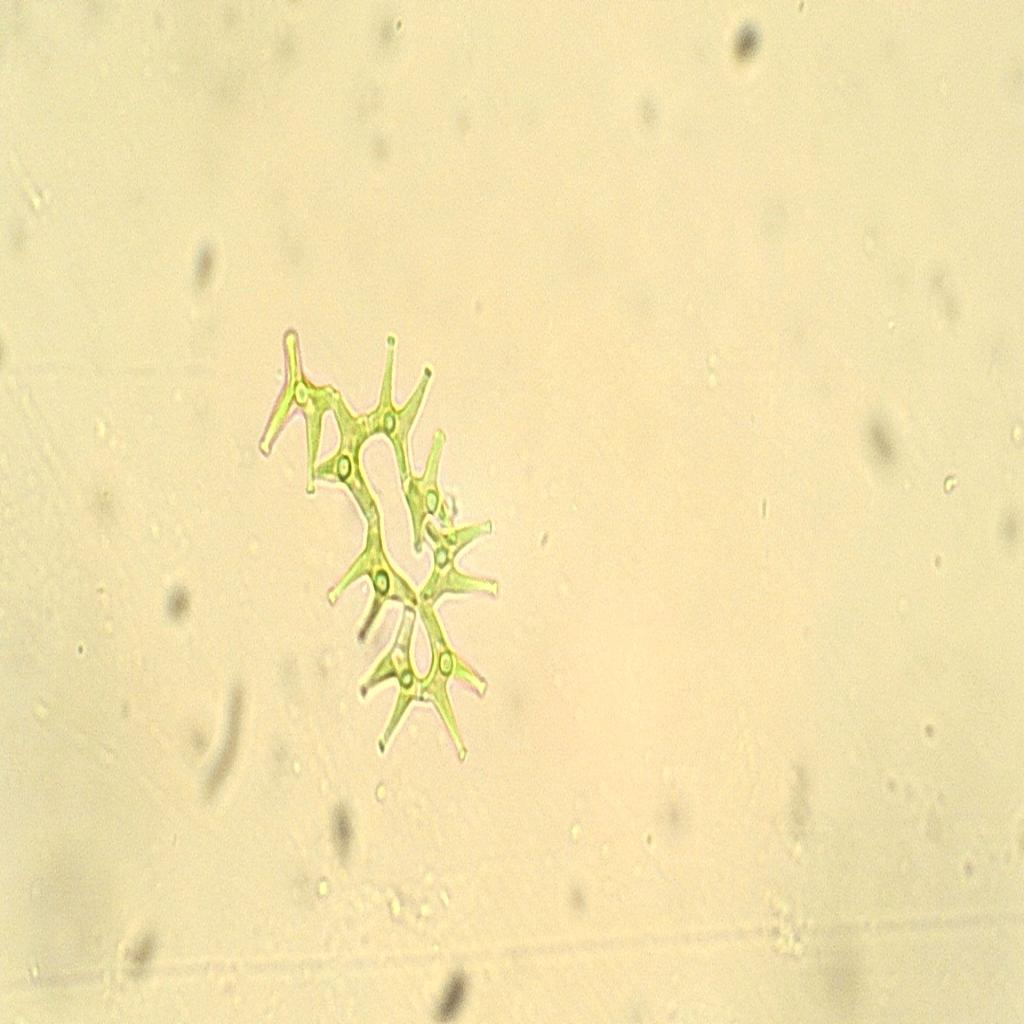Pediastrum_1TH: (256, 302, 508, 782)
